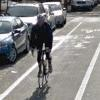Bicycle: (31, 44, 53, 93)
